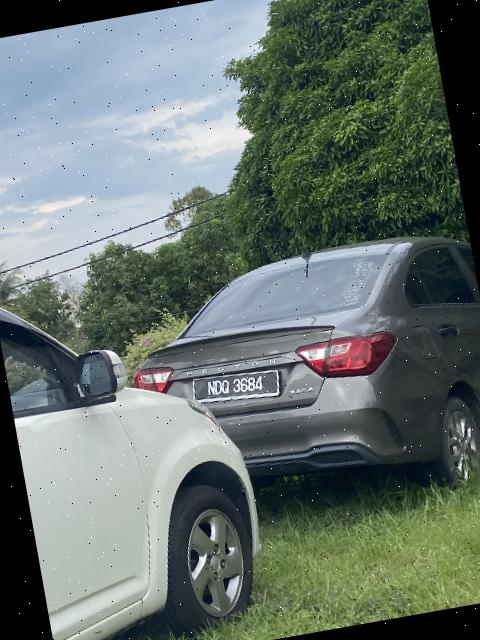License_Plate: (188, 362, 286, 409)
car: (1, 229, 296, 640), (127, 221, 480, 543)
